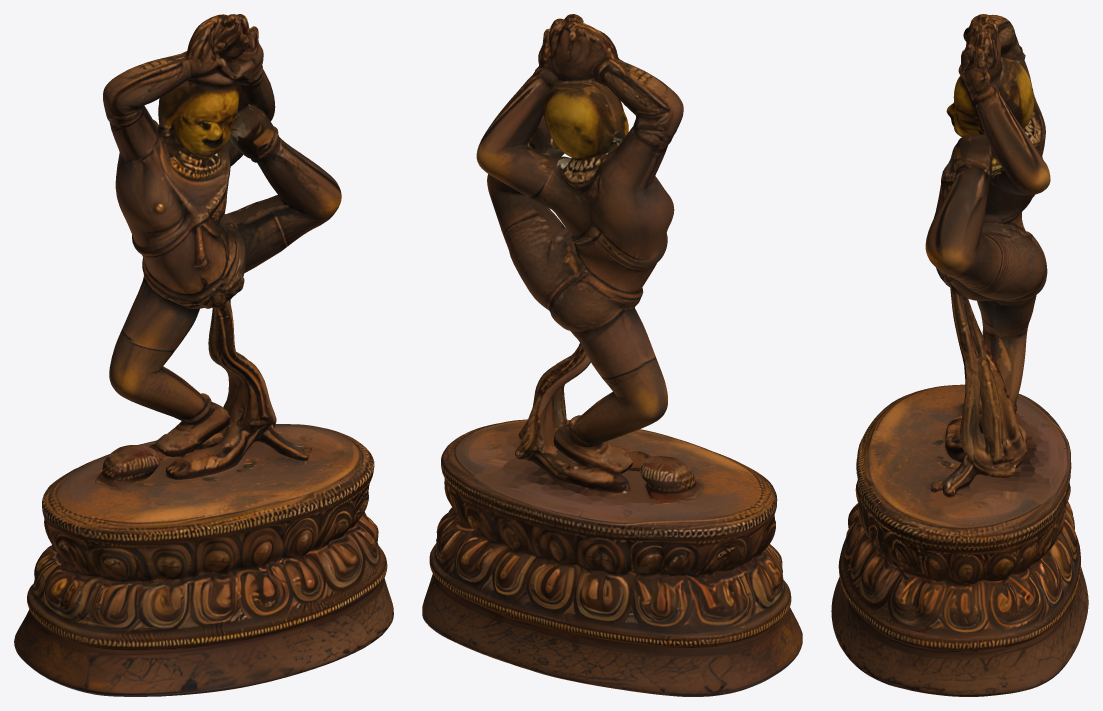
The picture shows the model from 3 angles, left to right: view 1: azimuth 30°, elevation 25°; view 2: azimuth 150°, elevation 25°; view 3: azimuth 270°, elevation 25°; orthographic projection.
Parts seen in each view (by area): view 1: textured_mesh; view 2: textured_mesh; view 3: textured_mesh.
Boxes of the visible parts, x1,y1,x2,y2 form: textured_mesh: (14, 14, 393, 696); textured_mesh: (422, 14, 802, 696); textured_mesh: (831, 14, 1088, 696).
Bounding box in the file's own units: 1.17 × 1.99 × 0.758.
1 material, 1 textured.
